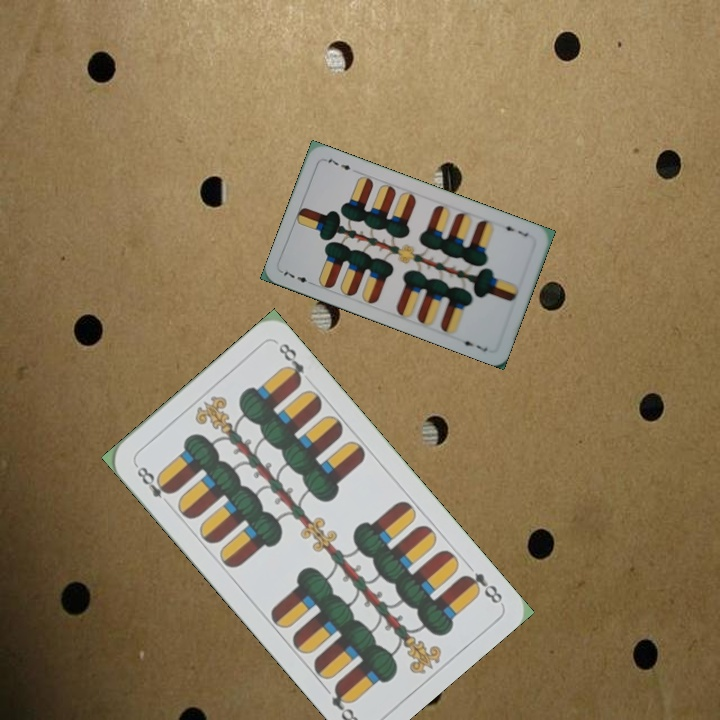E7: (278, 267, 317, 286), (497, 220, 531, 239)
E8: (131, 460, 176, 509), (458, 568, 505, 607)
